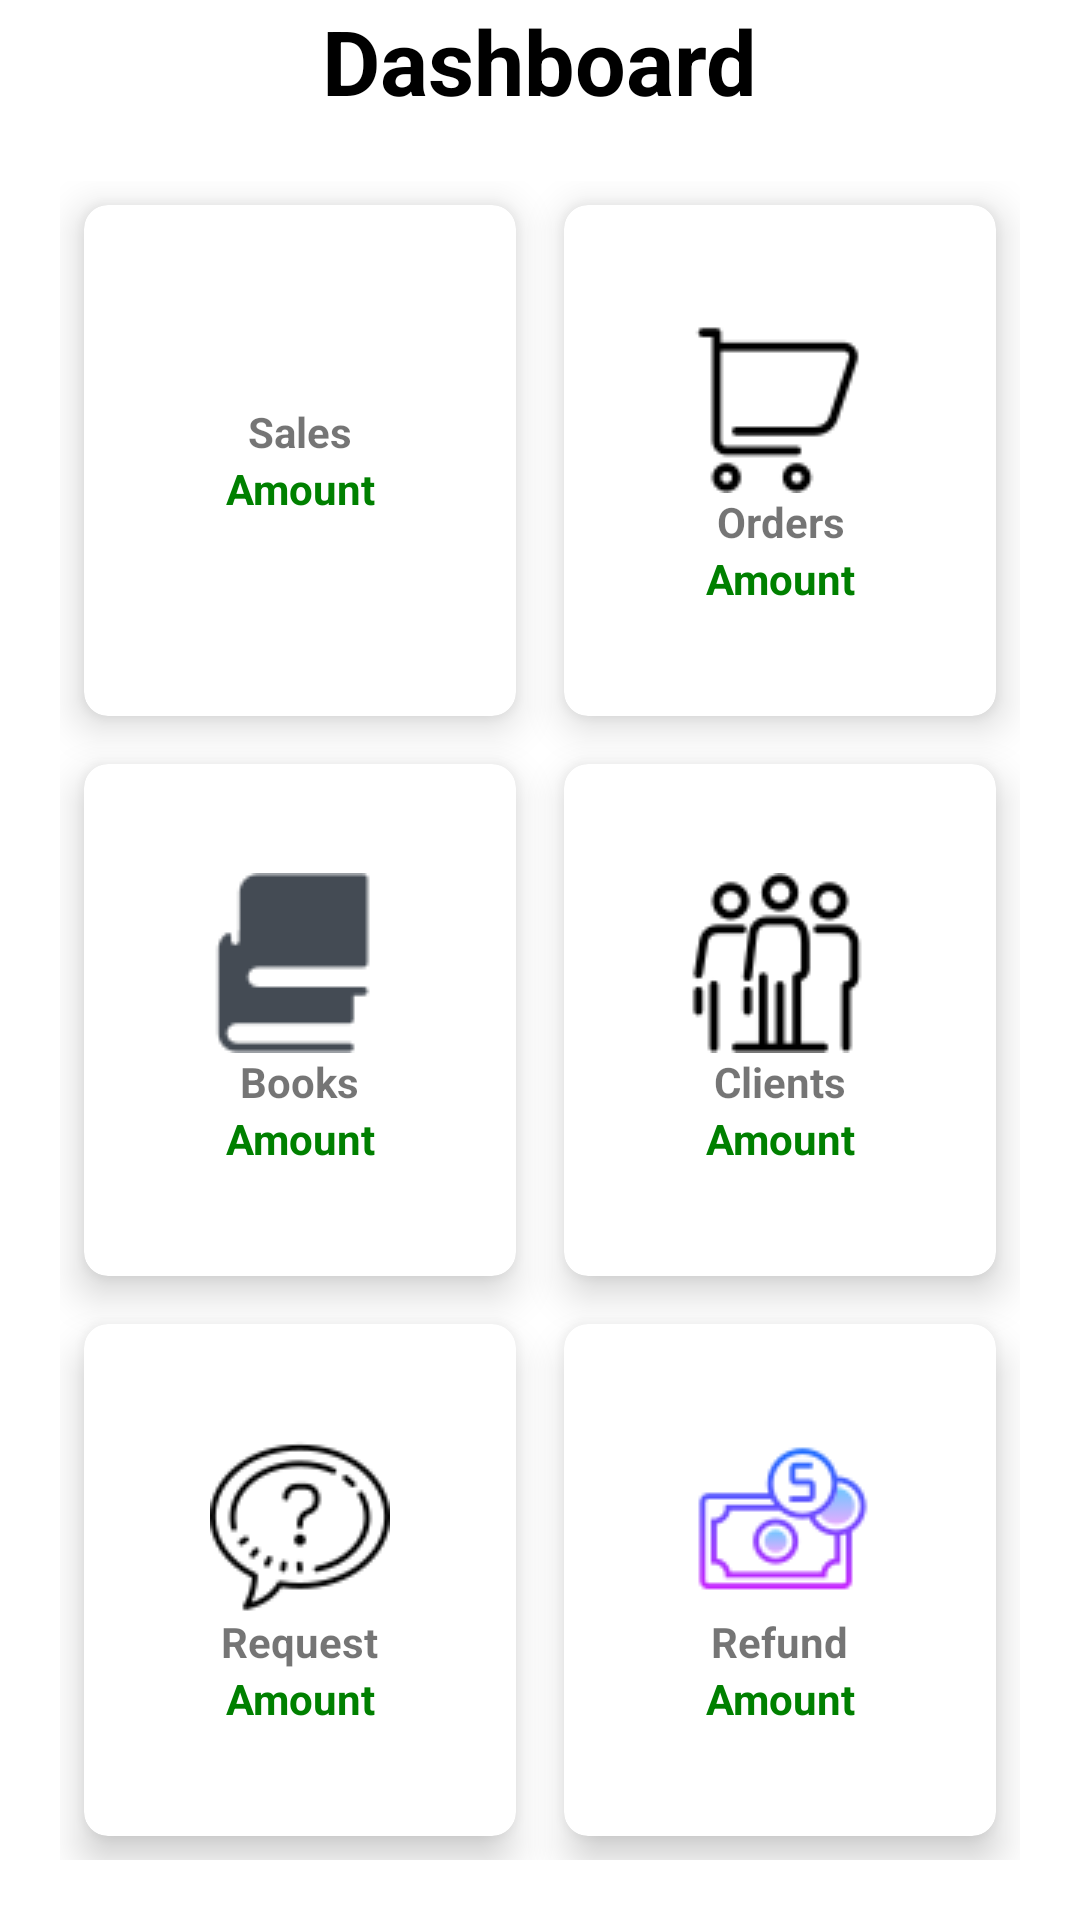

Icon bounding boxes for this 1080*1920 phone screenshot, format [x1, y1, x2, y2]:
cart dashboard: [697, 327, 859, 493]
